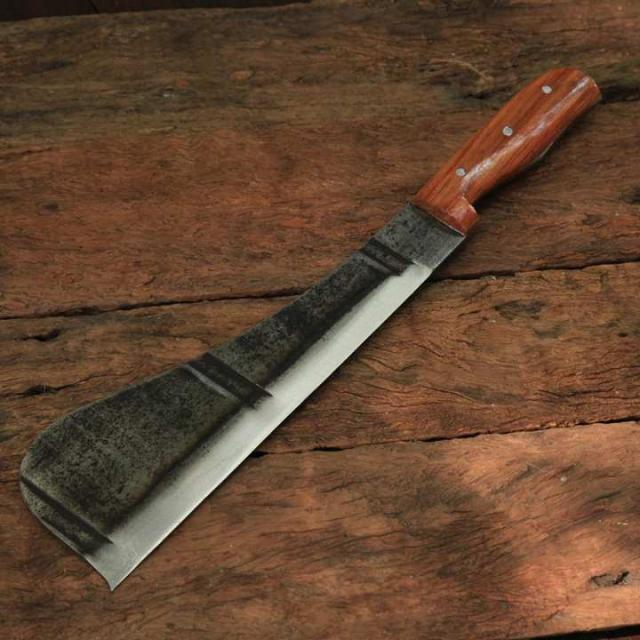eto: (8, 61, 615, 601)
